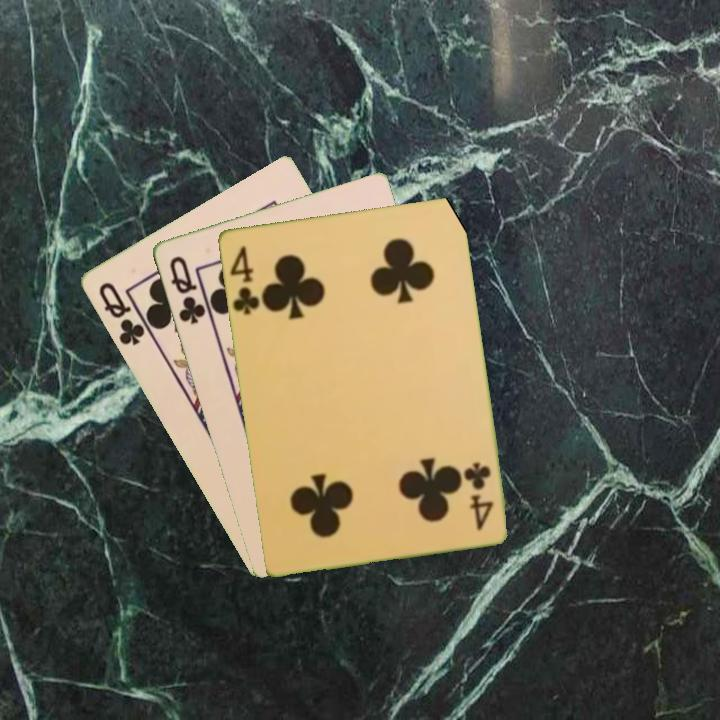4c: (225, 242, 262, 317), (461, 458, 496, 533)
Qc: (94, 278, 147, 348), (165, 252, 208, 327)
